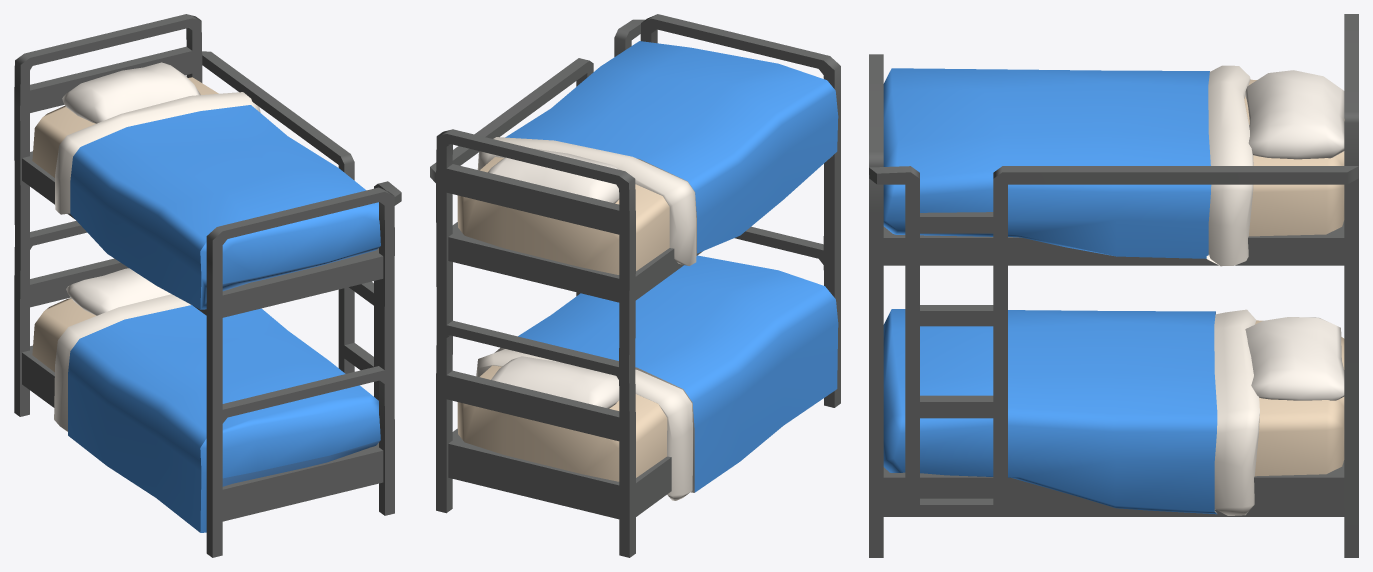
File: SM_Prop_BunkBed_01.obj
3 renders of one model, left to right at view 1: azimuth 30°, elevation 25°; view 2: azimuth 150°, elevation 25°; view 3: azimuth 270°, elevation 25°, orthographic. The views are drawn at different scales.
Visible parts, largest first — view 1: SM_Prop_BunkBed_01_Mat_SwatchOverlay_PolygonTown_01_Inst; view 2: SM_Prop_BunkBed_01_Mat_SwatchOverlay_PolygonTown_01_Inst; view 3: SM_Prop_BunkBed_01_Mat_SwatchOverlay_PolygonTown_01_Inst.
Part boxes in pixels (x1=…): SM_Prop_BunkBed_01_Mat_SwatchOverlay_PolygonTown_01_Inst: x1=14, y1=14, x2=401, y2=557; SM_Prop_BunkBed_01_Mat_SwatchOverlay_PolygonTown_01_Inst: x1=430, y1=14, x2=840, y2=557; SM_Prop_BunkBed_01_Mat_SwatchOverlay_PolygonTown_01_Inst: x1=869, y1=14, x2=1358, y2=557.
Bounding box in the file's own units: 1.4 × 2.35 × 2.37.
Materials: 1 (1 with a texture image).
